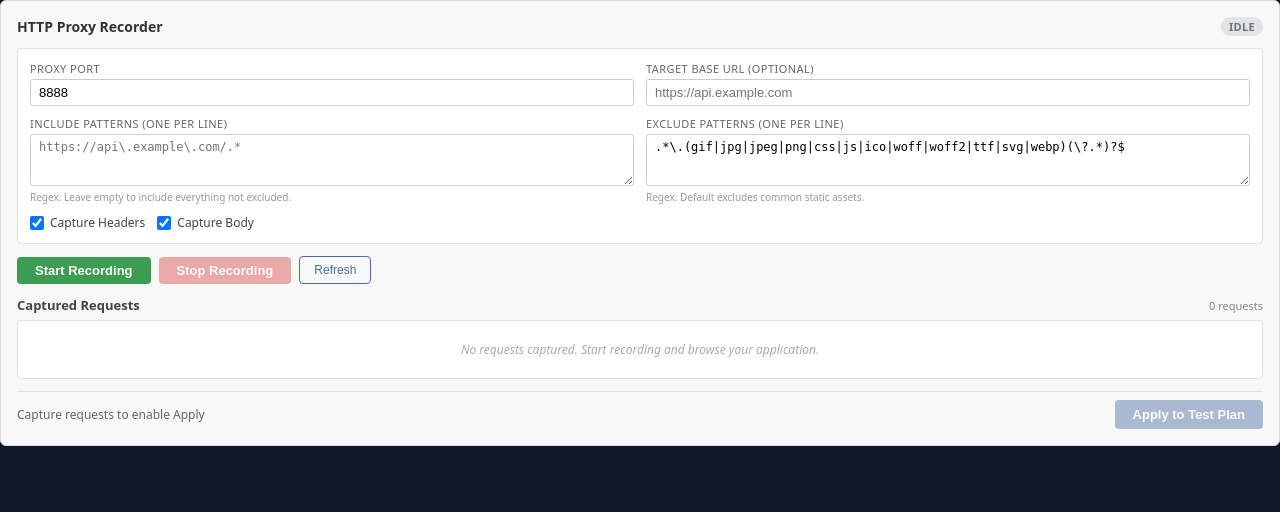
Test: ProxyRecorderPanel — captured list › shows correct capture count
Click the button with test id "refresh-captured-btn".
click(335, 270)  # box [299,256,371,284]
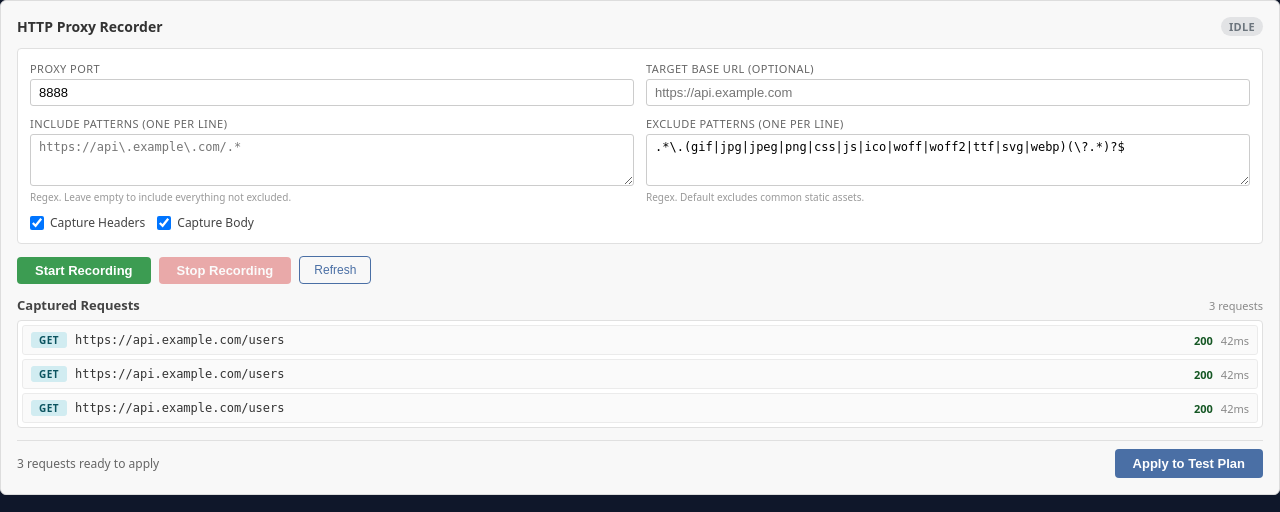
Result: the text with test id "captured-count" reads "3 requests" at [1209,298,1263,312]
